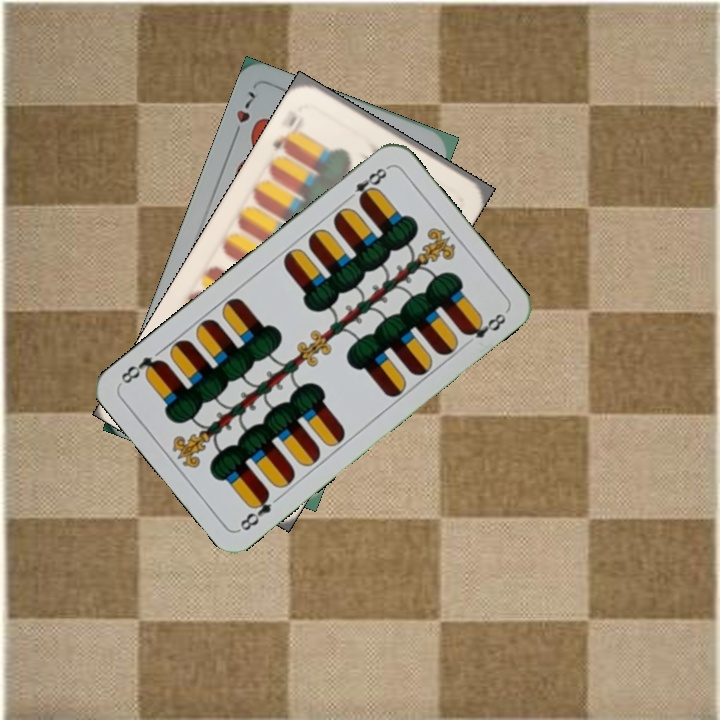E10: (268, 112, 307, 156)
E8: (341, 162, 391, 206), (235, 487, 275, 535)
H7: (228, 86, 258, 142)
